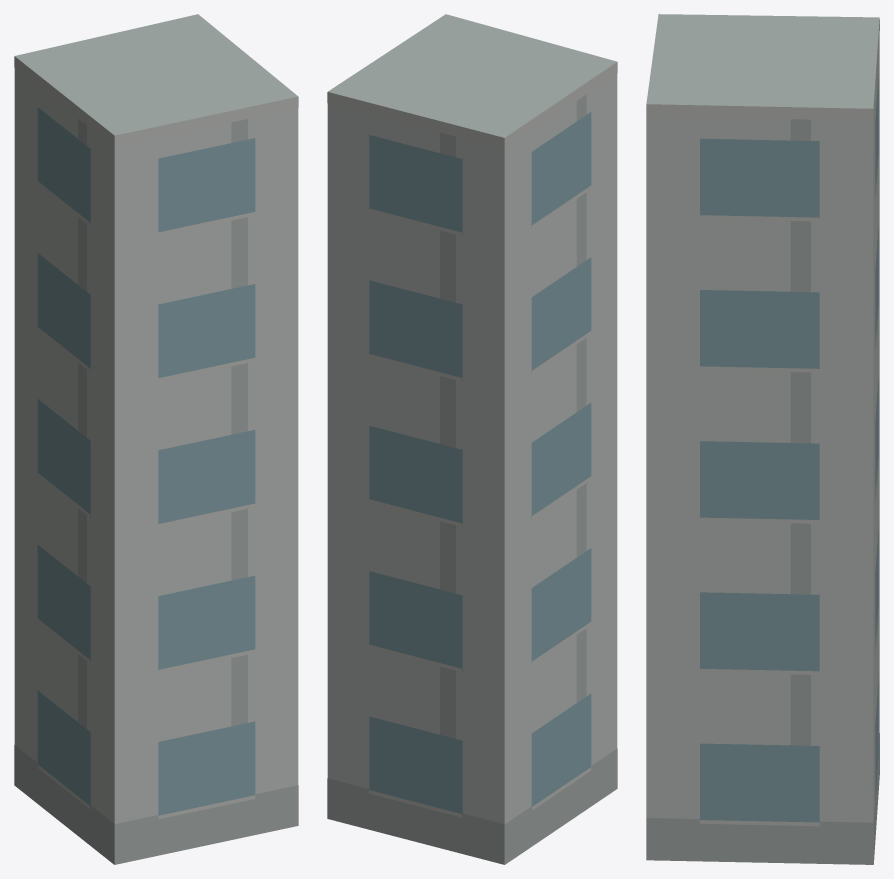
File: survey-upis-32634736.glb
3 views of the same model, side by side, from view 1: azimuth 30°, elevation 25°; view 2: azimuth 150°, elevation 25°; view 3: azimuth 270°, elevation 25° (orthographic). The views are drawn at different scales.
Visible parts, largest first — view 1: survey-upis-32634736.tmp; view 2: survey-upis-32634736.tmp; view 3: survey-upis-32634736.tmp.
Part boxes in pixels (x1,y1,x2,y2): survey-upis-32634736.tmp: [14, 14, 298, 864]; survey-upis-32634736.tmp: [327, 14, 617, 864]; survey-upis-32634736.tmp: [646, 14, 879, 864].
Size of the model in its own units: 4.11 by 15.25 by 4.28.
